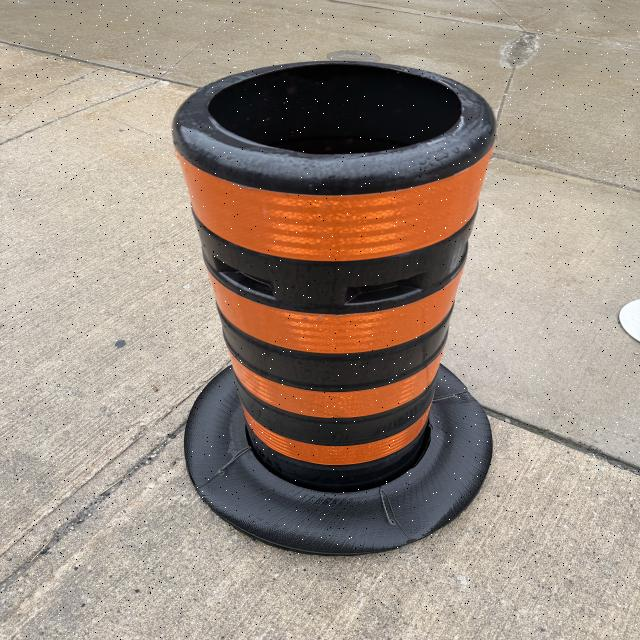Teraffic Barrel: (173, 62, 494, 554)
